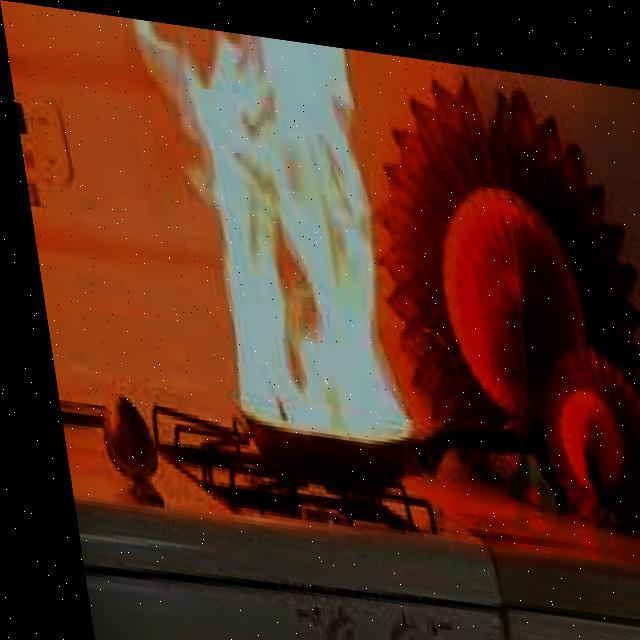Fire: (138, 26, 418, 438)
